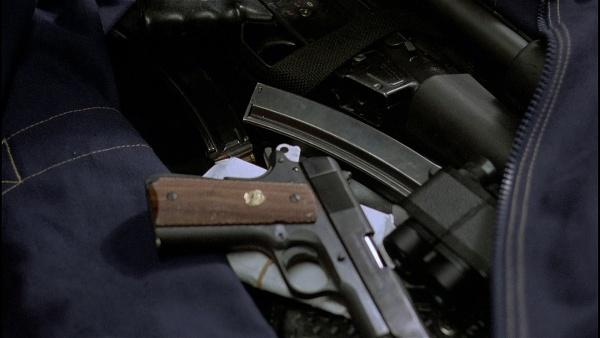Gun: (148, 142, 432, 338)
